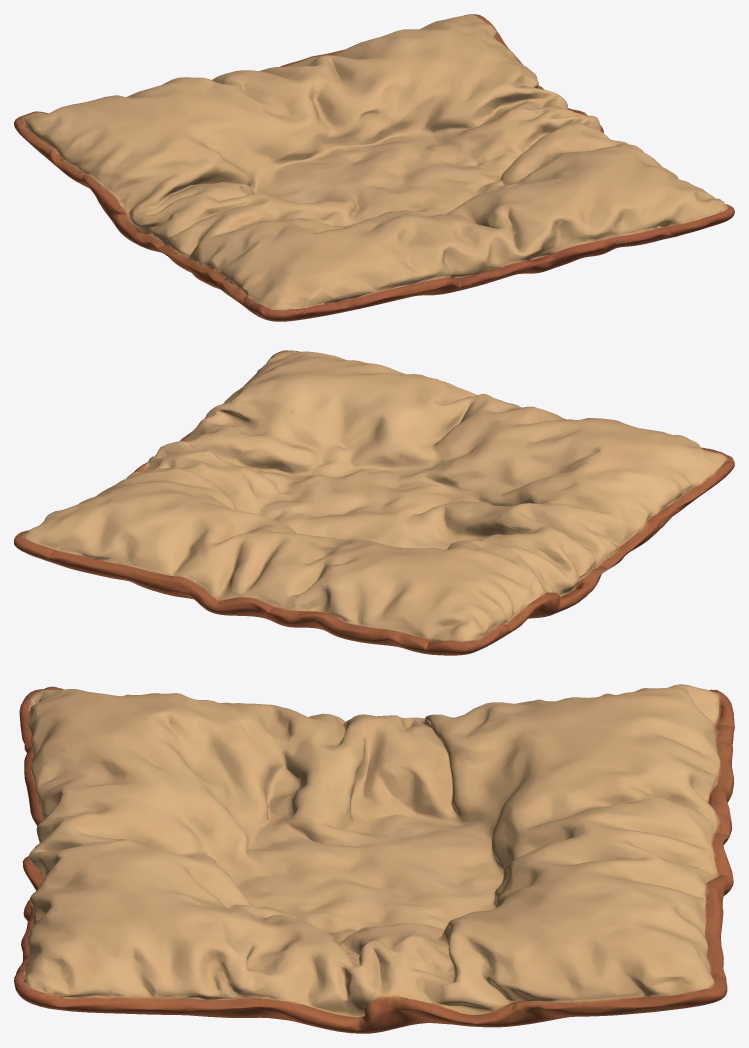
Rendered from bed.glb.
3 views of the same model, one above another, from view 1: azimuth 30°, elevation 25°; view 2: azimuth 150°, elevation 25°; view 3: azimuth 270°, elevation 25° (orthographic). The views are drawn at different scales.
Visible parts, largest first — view 1: tripo_node_eba42426-7846-4f87-b6be-2cb617d524ce; view 2: tripo_node_eba42426-7846-4f87-b6be-2cb617d524ce; view 3: tripo_node_eba42426-7846-4f87-b6be-2cb617d524ce.
Boxes of the visible parts, x1,y1,x2,y2 form: tripo_node_eba42426-7846-4f87-b6be-2cb617d524ce: [14, 14, 734, 321]; tripo_node_eba42426-7846-4f87-b6be-2cb617d524ce: [14, 350, 734, 655]; tripo_node_eba42426-7846-4f87-b6be-2cb617d524ce: [14, 684, 734, 1033].
Bounding box in the file's own units: 1 × 0.16 × 0.9999.
Materials: 1 (1 with a texture image).
